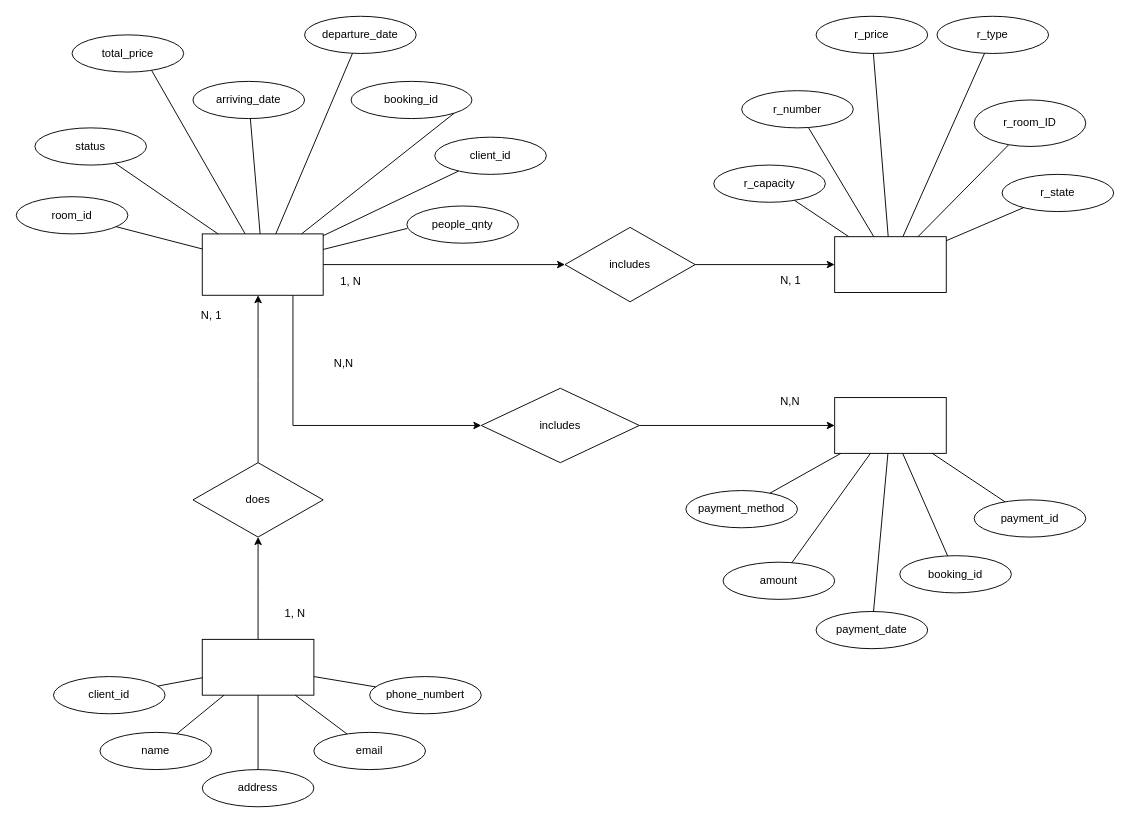
Some shapes in this 1130 by 823 pixel diagram are drawn without their labels. The centre of each missing label's shape, as x and y in pixels:
BOOKING: (262,264)
CLIENT: (257,666)
PAYMENT: (890,425)
ROOM: (890,264)
